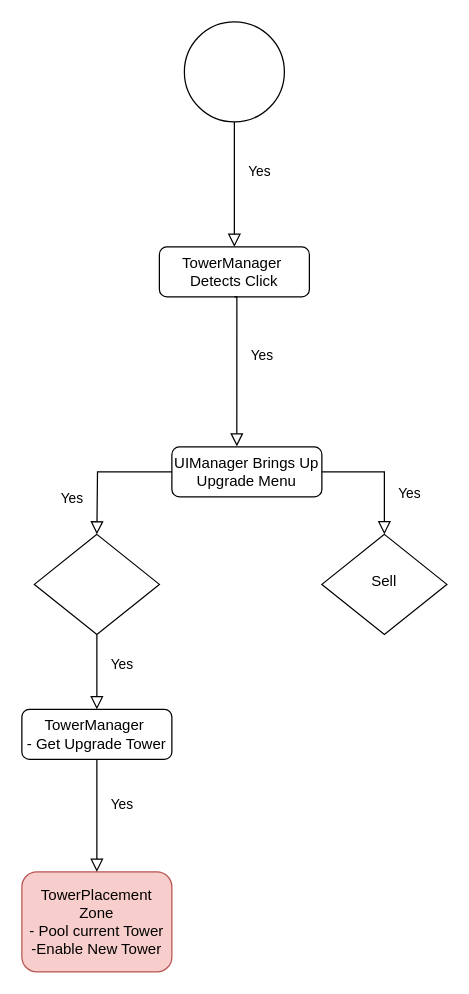
Image size: 469x994. Some labels were removed from this diagram. The centre of each missing label's shape, as x and y in pixels:
"Tower Clicked" goes at [233,71].
"Upgrade Selected" goes at [96,583].
